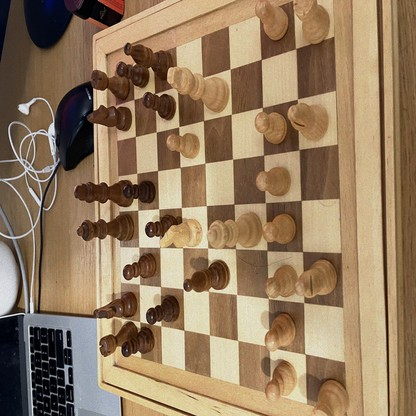bishop_black: (124, 43, 174, 78), (183, 261, 230, 291)
bishop_white: (287, 103, 329, 142), (295, 261, 338, 299)
king_black: (74, 181, 134, 206)
king_white: (167, 67, 230, 113)
knight_black: (93, 292, 137, 318), (87, 105, 132, 130)
knight_white: (160, 221, 203, 249)
pawn_black: (146, 294, 180, 322), (143, 91, 176, 119), (116, 61, 150, 87), (122, 329, 155, 355), (123, 254, 157, 279), (145, 215, 181, 236), (123, 182, 156, 202)
pawn_white: (255, 0, 289, 40), (266, 361, 297, 402), (264, 315, 295, 351), (266, 264, 298, 298), (255, 112, 287, 145), (256, 167, 290, 196), (263, 214, 297, 243), (168, 132, 199, 159)
queen_black: (76, 215, 134, 242)
queen_white: (207, 210, 262, 249)
rock_black: (99, 322, 138, 355), (90, 69, 130, 100)
rock_white: (293, 0, 330, 45)
